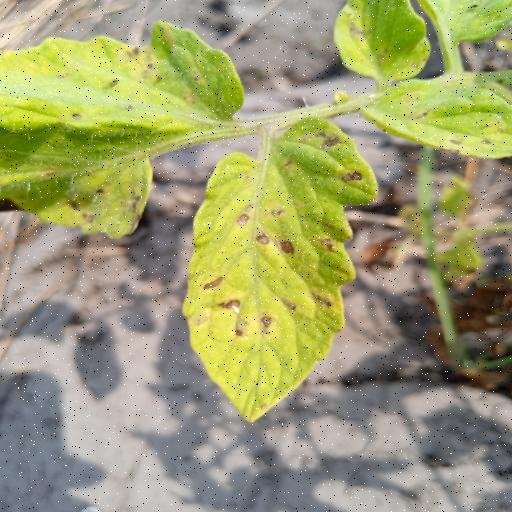Tomato_Brown_Spots: (181, 112, 396, 420)
